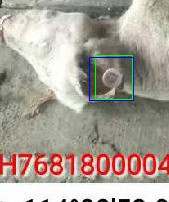text: (95, 55, 132, 99)
